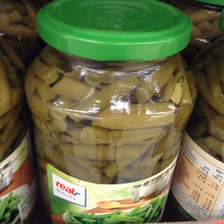beans: (31, 3, 198, 224)
